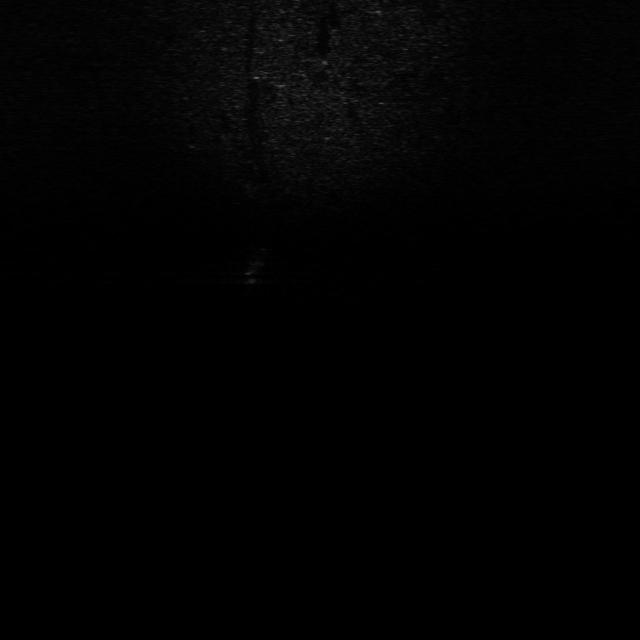human body: (242, 243, 270, 294)
